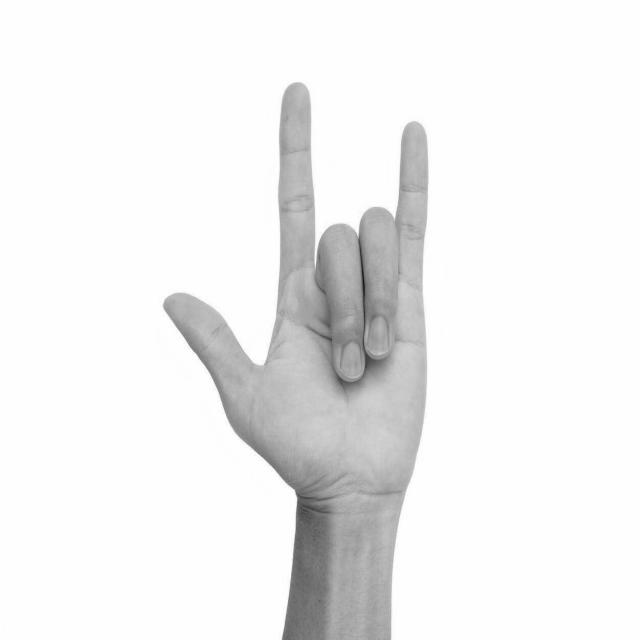i love you: (158, 74, 435, 546)
